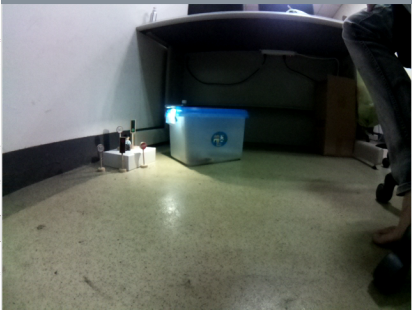Green: (128, 118, 138, 134)
Red: (119, 136, 127, 154)
Stop: (137, 138, 149, 152)
